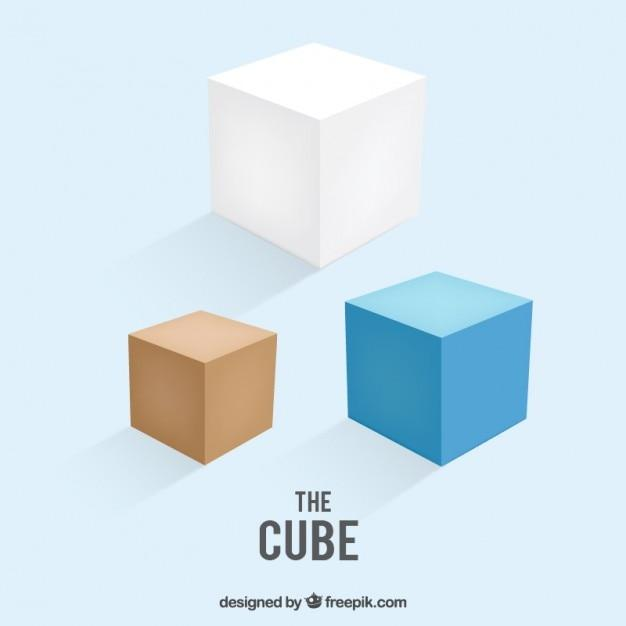cube: (345, 274, 534, 469), (123, 314, 279, 467)
